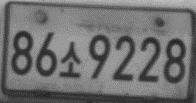2: (136, 36, 162, 84), (110, 35, 135, 81)
6: (35, 31, 58, 77)
8: (161, 37, 186, 83), (10, 30, 34, 75)
9: (87, 33, 111, 80)
소: (58, 40, 82, 79)
